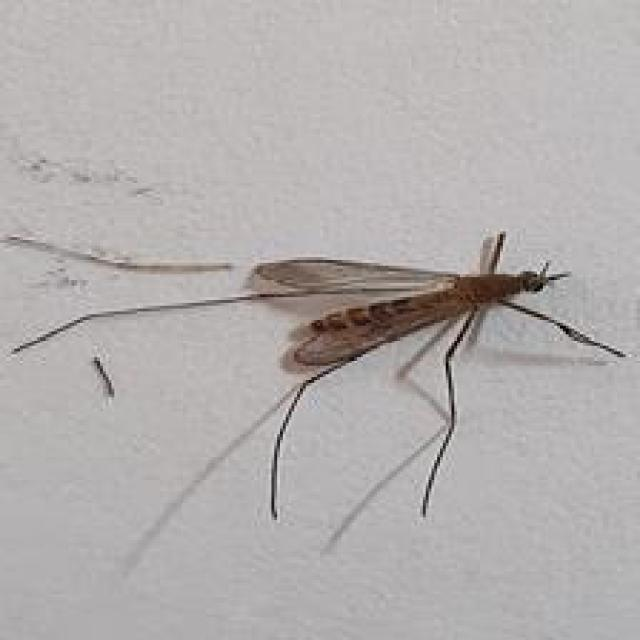Culex: (4, 226, 627, 548)
